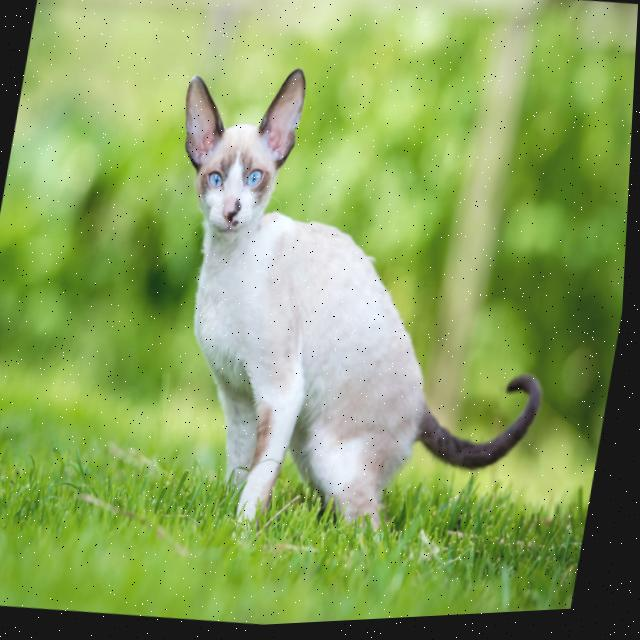Cornish Rex: (109, 39, 603, 586)
